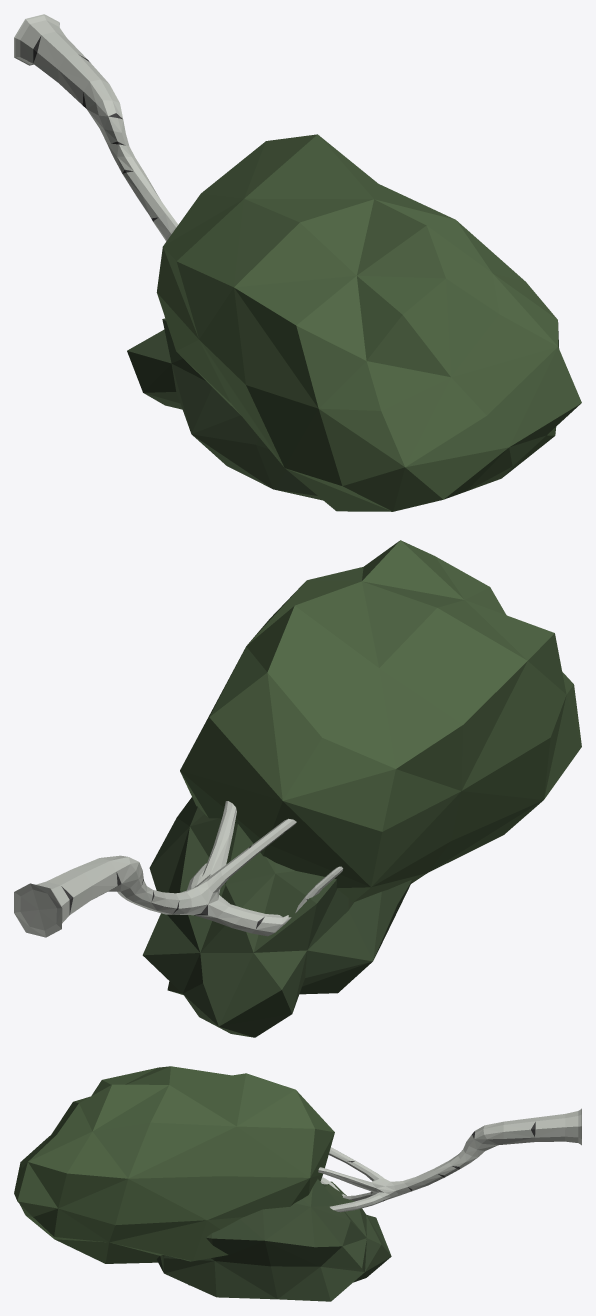
Rendered from tree-birch-2-32-ft.obj.
3 views of the same model, one above another, from view 1: azimuth 30°, elevation 25°; view 2: azimuth 150°, elevation 25°; view 3: azimuth 270°, elevation 25° (orthographic). The views are drawn at different scales.
Visible parts, largest first — view 1: tree-birch-2-32-ft; view 2: tree-birch-2-32-ft; view 3: tree-birch-2-32-ft.
Part boxes in pixels (x1=…): tree-birch-2-32-ft: x1=14, y1=14, x2=581, y2=511; tree-birch-2-32-ft: x1=14, y1=540, x2=581, y2=1037; tree-birch-2-32-ft: x1=14, y1=1066, x2=581, y2=1301.
Size of the model in its own units: 140 by 161 by 384.
